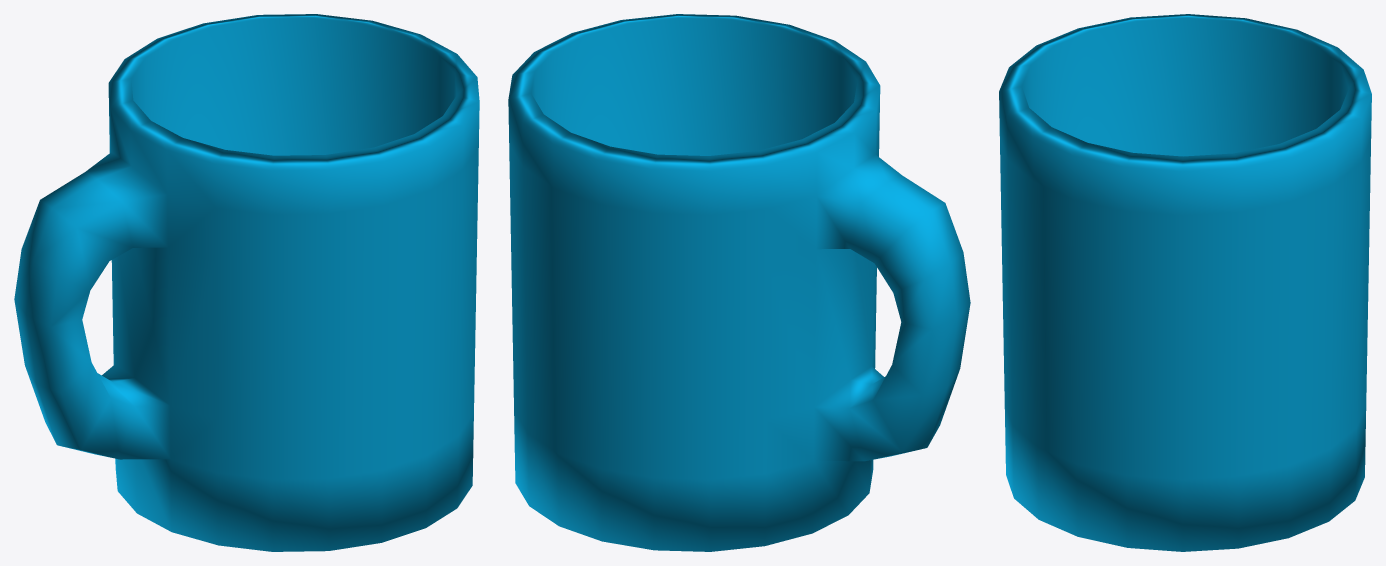
Rendered from Mug_01_Lod0.fbx.
The picture shows the model from 3 angles, left to right: view 1: azimuth 30°, elevation 25°; view 2: azimuth 150°, elevation 25°; view 3: azimuth 270°, elevation 25°; orthographic projection.
Parts seen in each view (by area): view 1: Mug_01_Lod0; view 2: Mug_01_Lod0; view 3: Mug_01_Lod0.
Part boxes in pixels (left/top/right/bottom): Mug_01_Lod0: left=14, top=14, right=479, bottom=551; Mug_01_Lod0: left=508, top=14, right=970, bottom=551; Mug_01_Lod0: left=999, top=14, right=1371, bottom=551.
Size of the model in its own units: 11.14 by 9.79 by 8.43.
